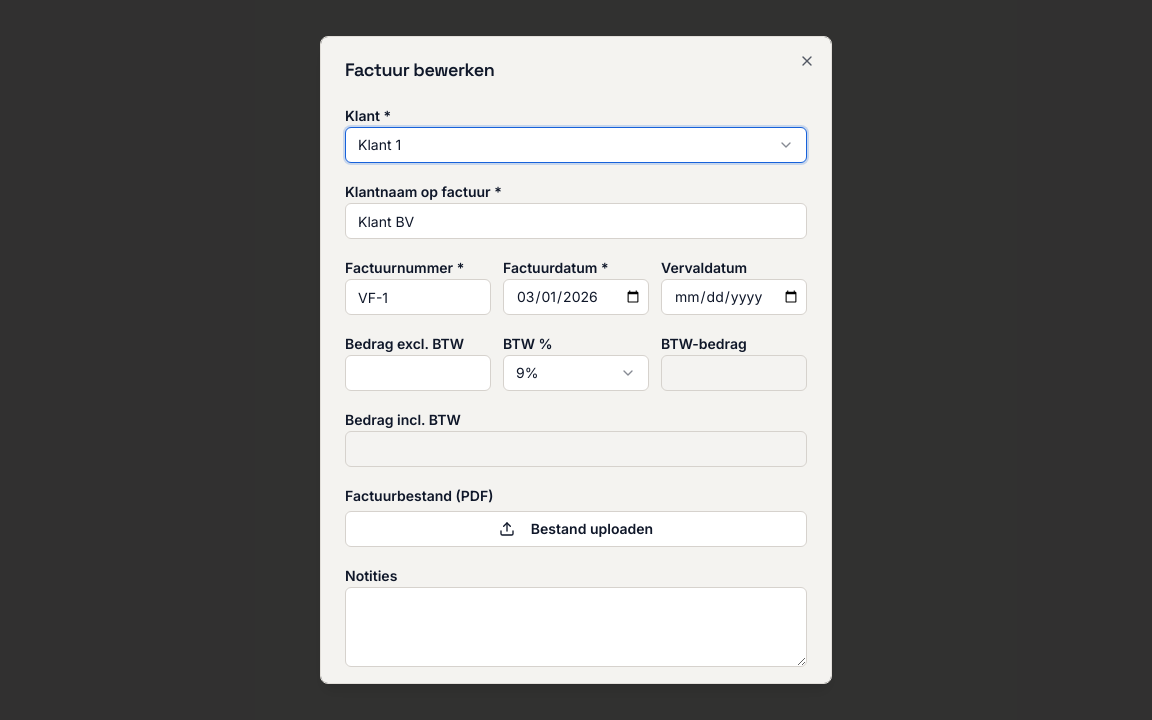
Test: A3-10 — de verkoopdialoog zelf › 10,50 bij 9%: btw 0,95 (half-up van 0,945), incl 11,45
The image size is (1152, 720).
Step 1. Type "10.50" into the number field below "Bedrag excl. BTW" → (418, 373), box [345,355,491,391]
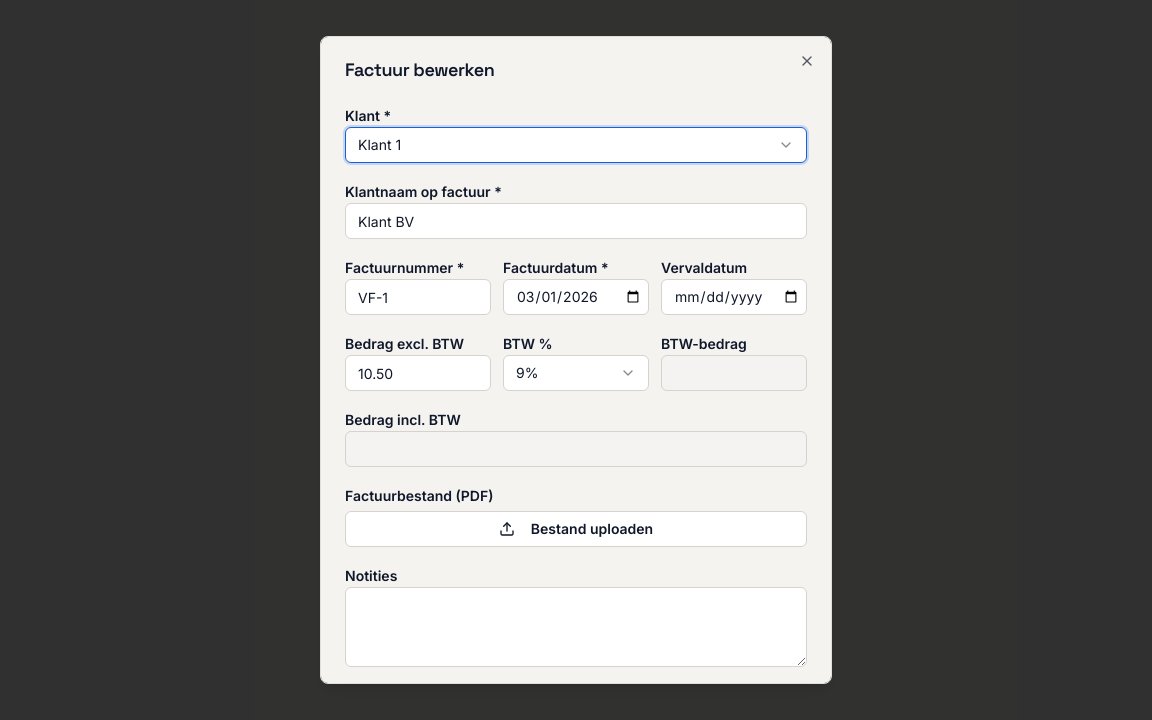
Step 2. Leave the number field below "Bedrag excl. BTW", box [345,355,491,391]
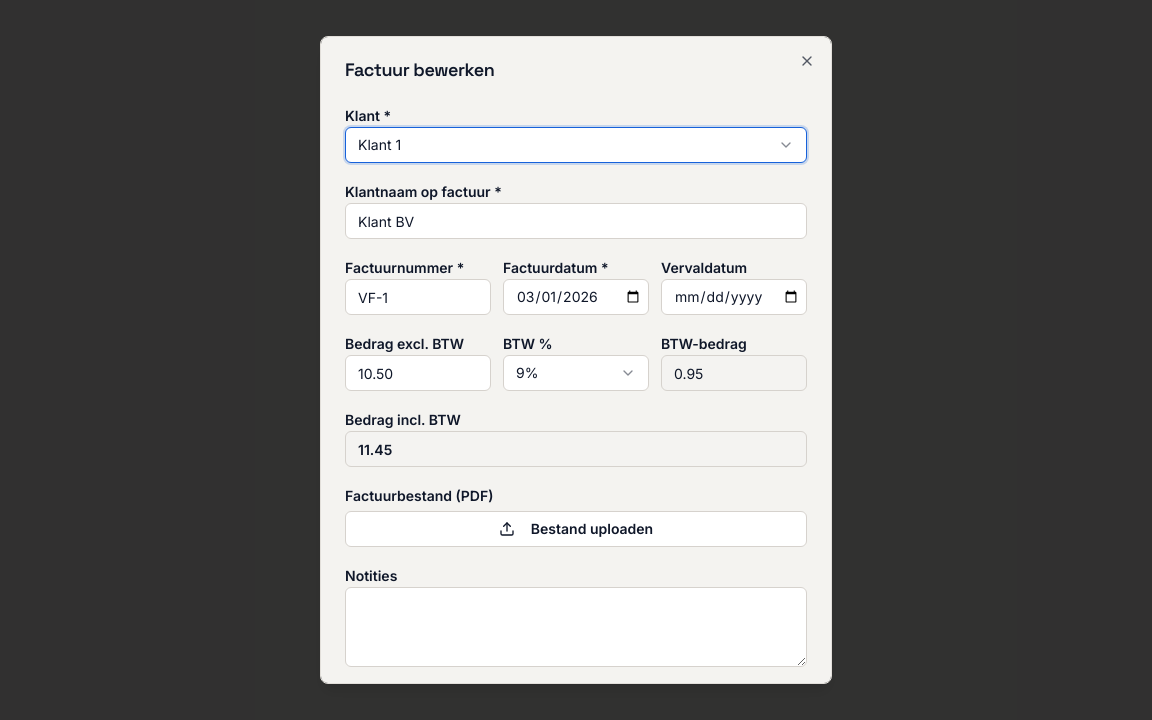
Check: the number field below "BTW-bedrag" holds "0.95", box [661,355,807,391]
Check: the number field below "Bedrag incl. BTW" holds "11.45", box [345,431,807,467]
